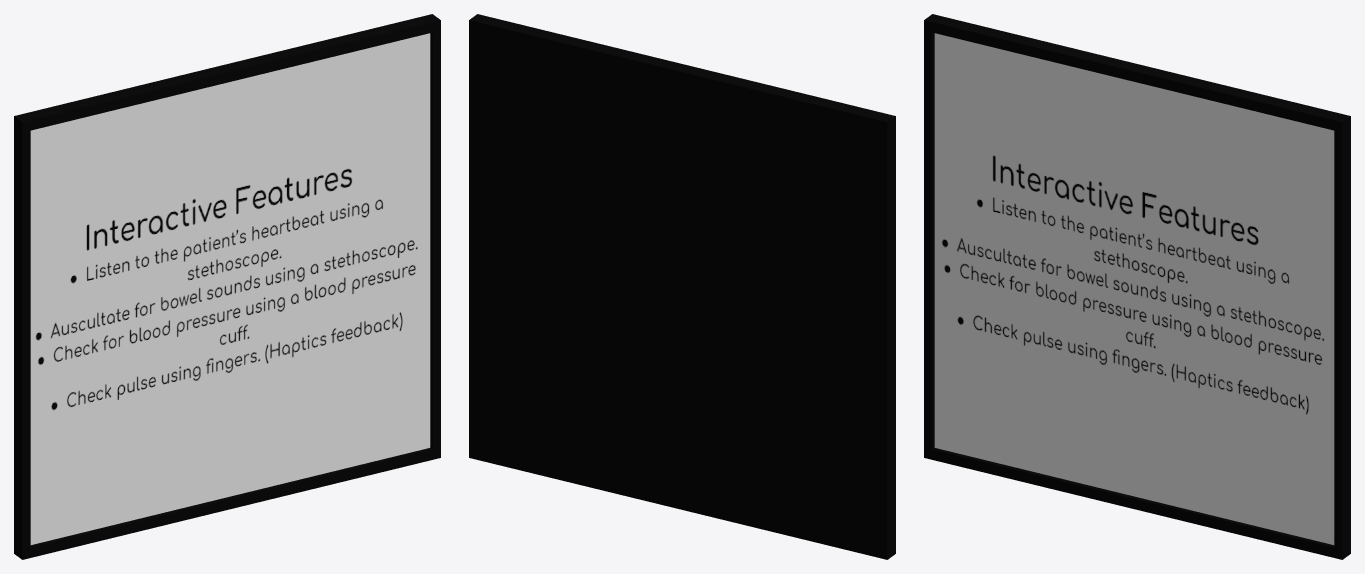
The model's file is FeatureBoard.fbx.
3 renders of one model, left to right at view 1: azimuth 30°, elevation 25°; view 2: azimuth 150°, elevation 25°; view 3: azimuth 330°, elevation 25°, orthographic.
Parts seen in each view (by area): view 1: FeaturesBoard; view 2: FeaturesBoard; view 3: FeaturesBoard.
Boxes of the visible parts, bbox=[...] form: FeaturesBoard: bbox=[14, 14, 440, 559]; FeaturesBoard: bbox=[469, 14, 895, 559]; FeaturesBoard: bbox=[924, 14, 1350, 559].
Size of the model in its own units: 4 by 4 by 0.1385.
